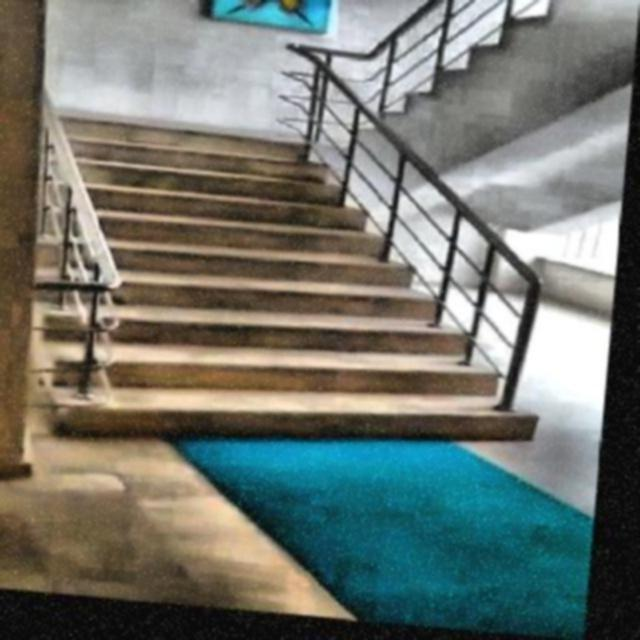stair: (30, 96, 588, 482)
